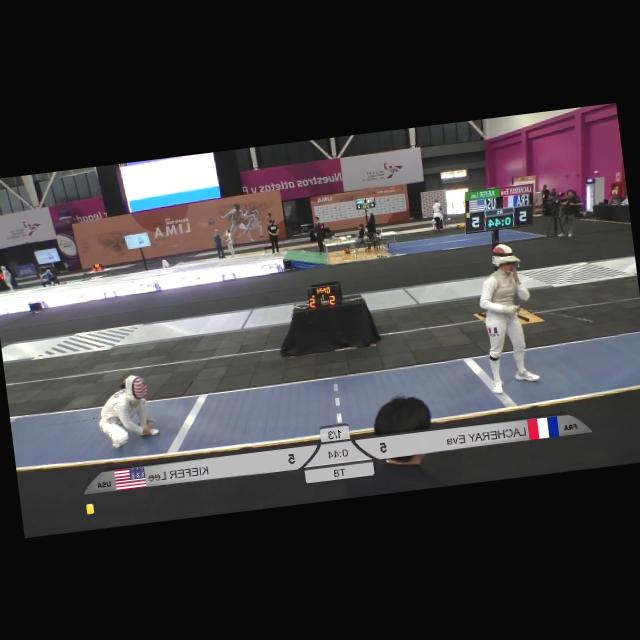blade: (514, 294, 594, 333)
